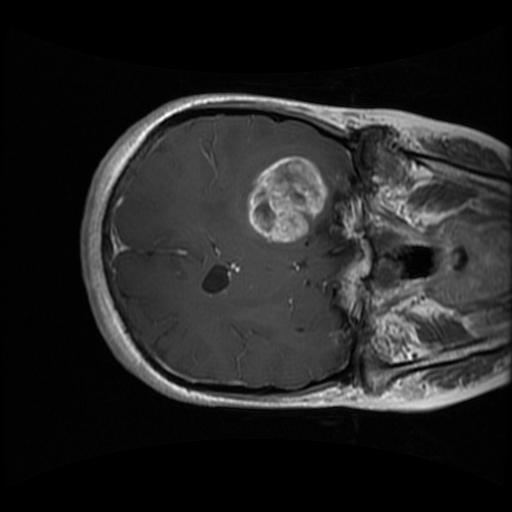glioma: (244, 153, 330, 249)
